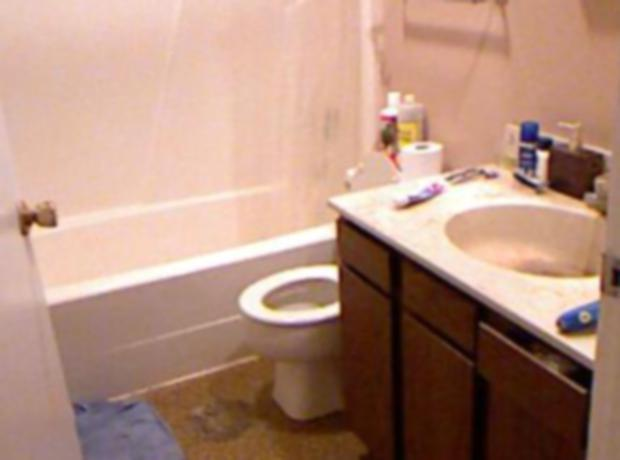Lavamanos: (439, 174, 620, 290)
Sanitario: (238, 144, 442, 441)
